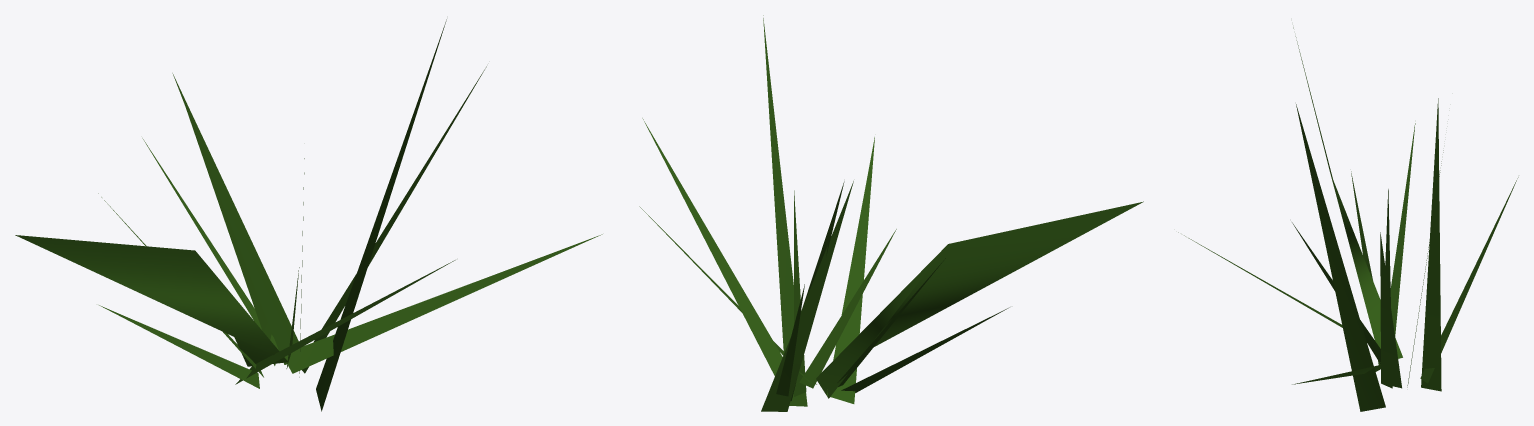
The model's file is grass.obj.
The picture shows the model from 3 angles, left to right: view 1: azimuth 30°, elevation 25°; view 2: azimuth 150°, elevation 25°; view 3: azimuth 270°, elevation 25°; orthographic projection. The views are drawn at different scales.
Parts seen in each view (by area): view 1: allGrass_001; view 2: allGrass_001; view 3: allGrass_001.
Part boxes in pixels (<box>): allGrass_001: <box>15,19,602,411</box>; allGrass_001: <box>639,15,1143,411</box>; allGrass_001: <box>1178,27,1518,411</box>.
Size of the model in its own units: 9.73 by 6.36 by 5.74.
